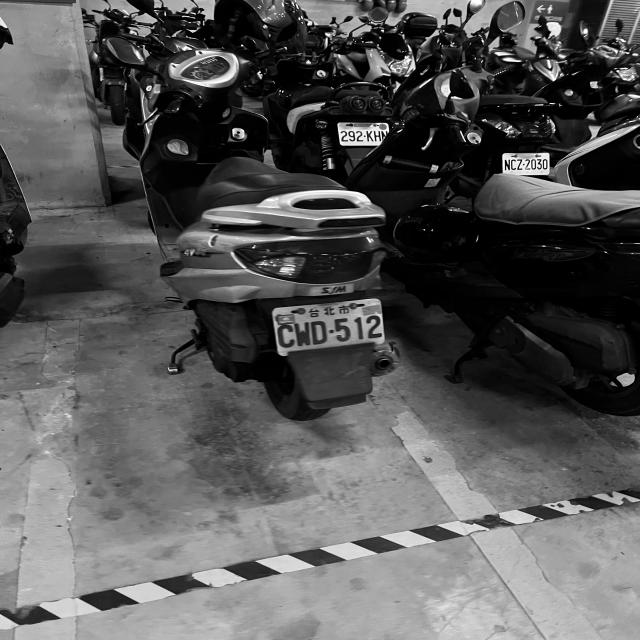-: (328, 328, 336, 335), (364, 134, 366, 138), (522, 163, 524, 166)
0: (531, 158, 537, 170), (543, 158, 548, 170)
1: (353, 315, 364, 340)
2: (364, 315, 382, 340), (341, 130, 350, 143), (356, 130, 364, 143), (524, 158, 530, 170)
3: (537, 158, 542, 170)
5: (333, 317, 353, 343)
9: (347, 130, 356, 143)
C: (277, 323, 296, 348), (511, 160, 516, 170)
D: (310, 318, 328, 346)
H: (373, 130, 381, 142)
K: (366, 130, 374, 142)
N: (504, 159, 510, 170)
W: (293, 320, 313, 346)
Z: (516, 160, 522, 170)
plate: (275, 301, 384, 352), (504, 152, 550, 174)
